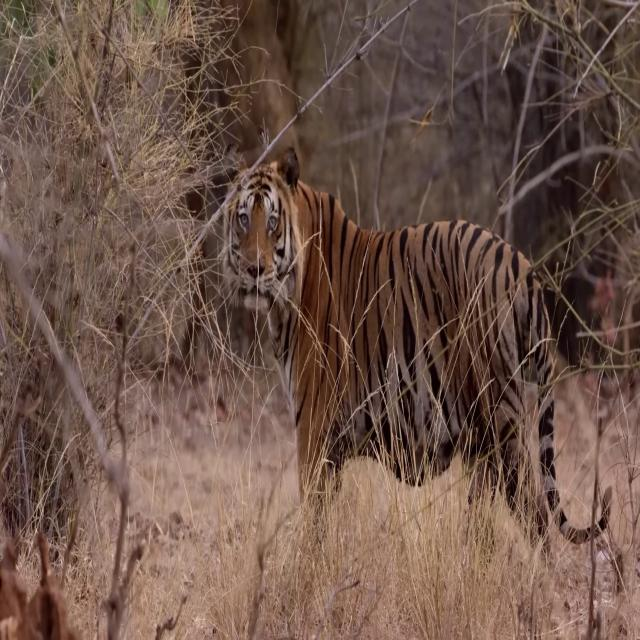tiger: (220, 137, 612, 564)
